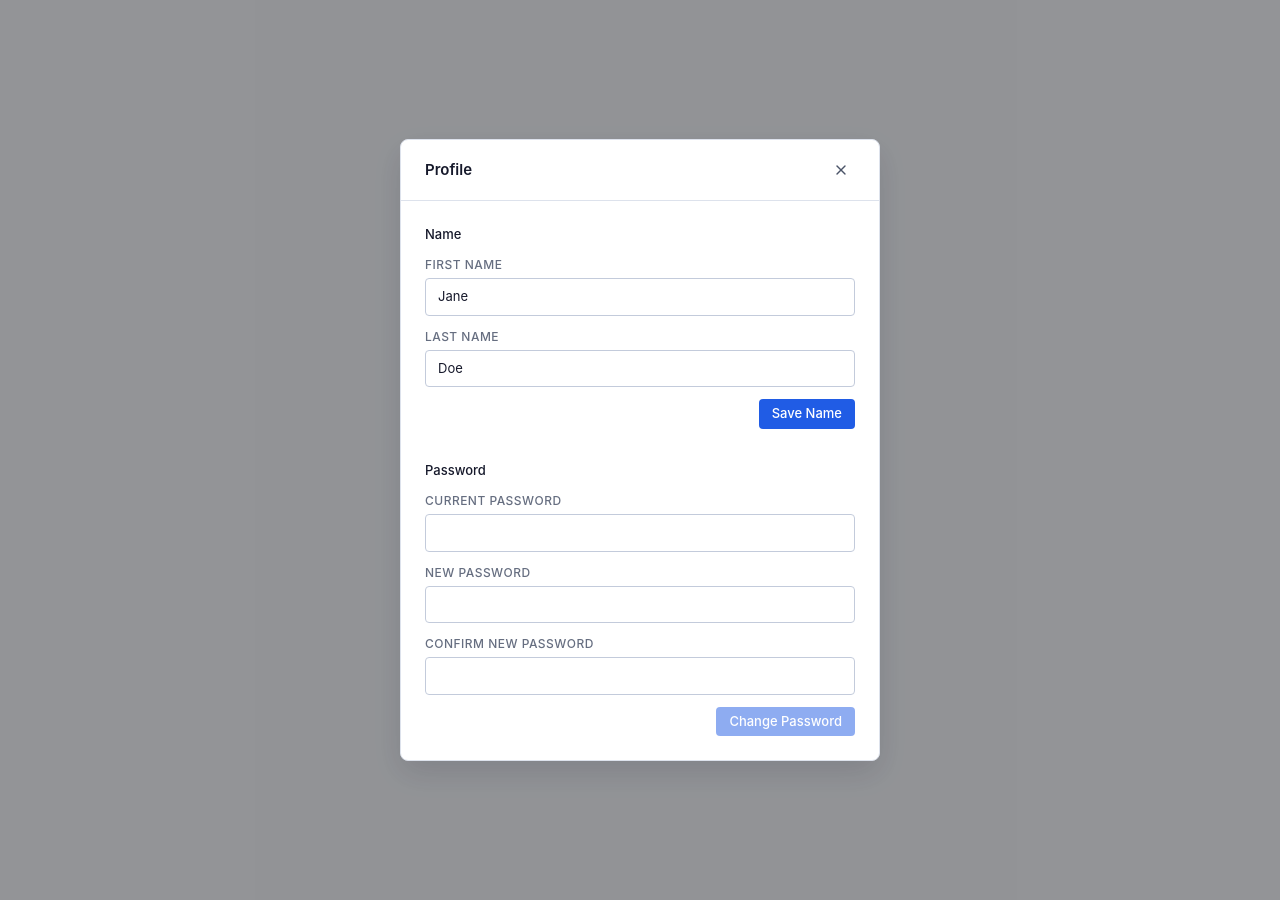
saving a name › submits the edited name and updates the shared current-user cache
Step 1. Replace the text in the field labelled "First Name" with "Janet" → (640, 297), box top-left (425, 278), bottom-right (855, 316)
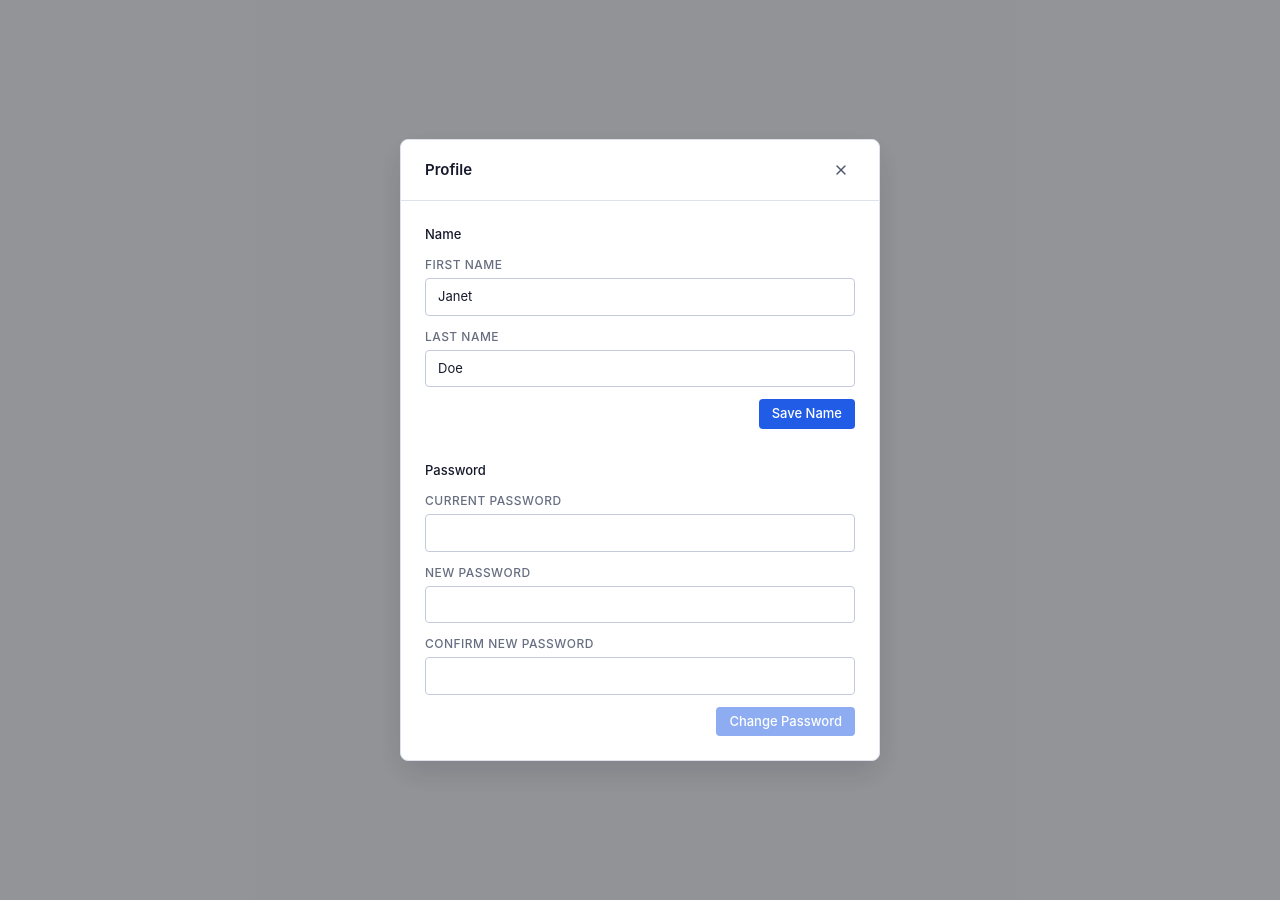
Step 2. Submit the form "First Name Last Name Save Name", box top-left (425, 256), bottom-right (855, 429)
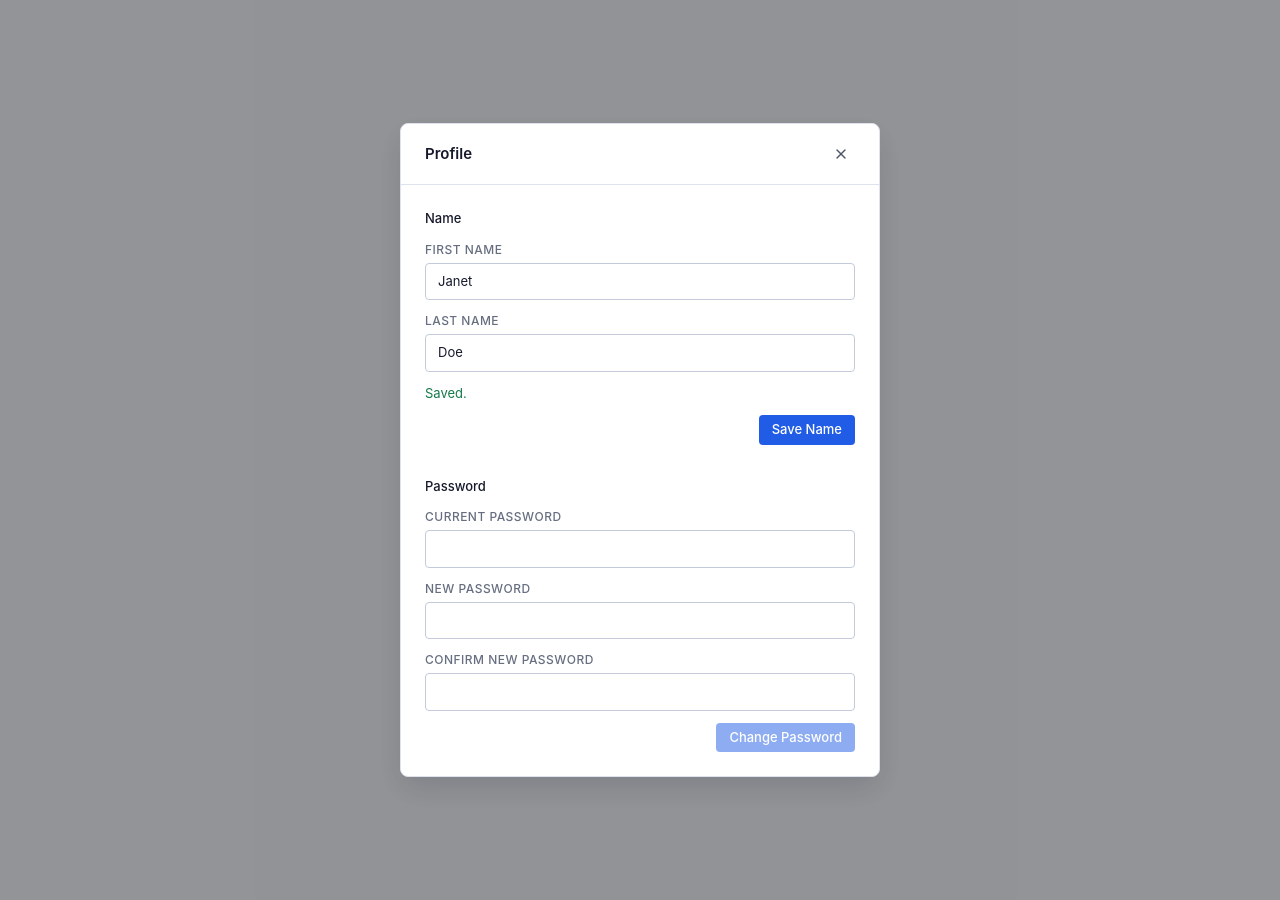
Expected: the text "Saved." is shown, top-left (425, 384), bottom-right (467, 400)
